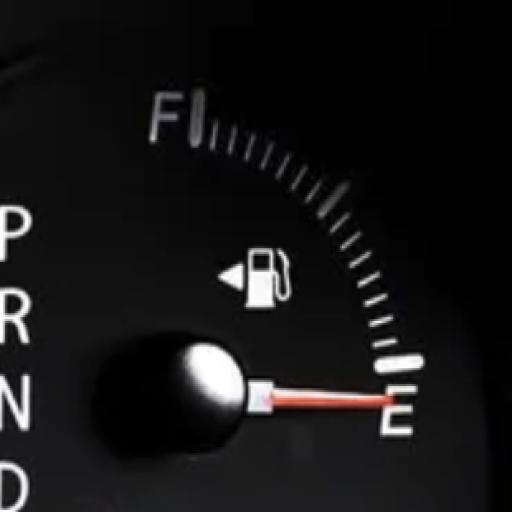empty: (384, 384, 418, 440)
fuel_icon: (218, 244, 290, 310)
full: (144, 86, 182, 148)
guage_area: (78, 41, 436, 503)
needle_center: (154, 336, 258, 460)
needle_tip: (352, 387, 382, 411)
